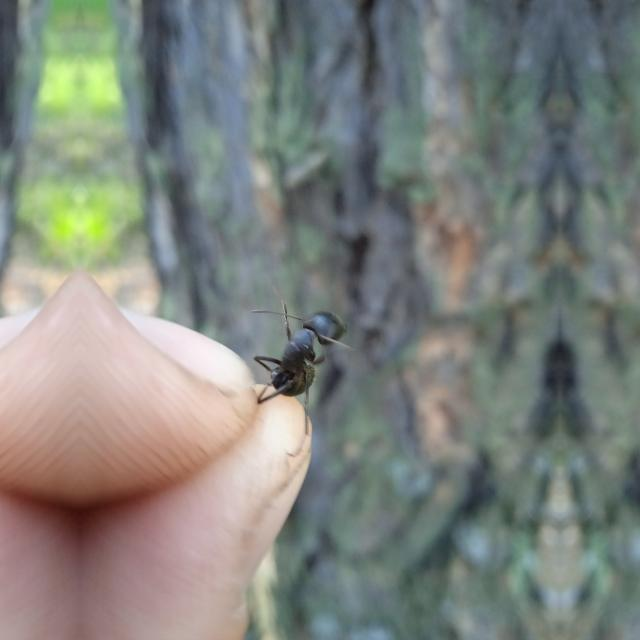Camponotus: (240, 284, 352, 414)
